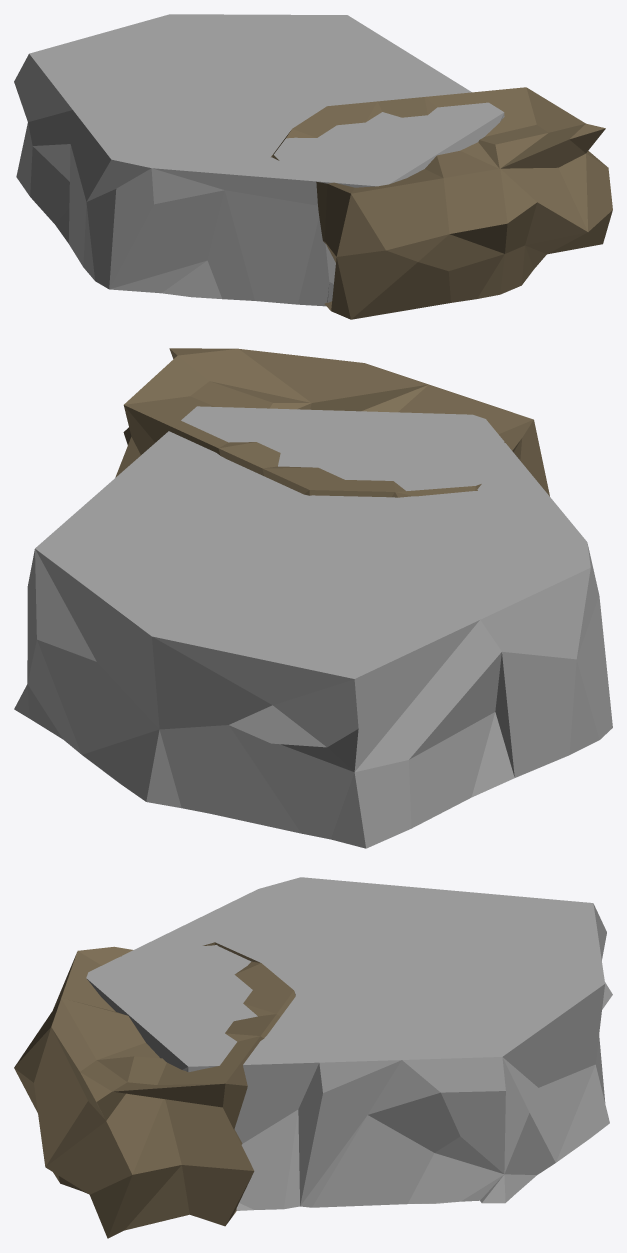
Rendered from SM_Rocks.fbx.
3 renders of one model, top to bottom at view 1: azimuth 30°, elevation 25°; view 2: azimuth 150°, elevation 25°; view 3: azimuth 270°, elevation 25°, orthographic. The views are drawn at different scales.
Parts seen in each view (by area): view 1: SM_RockPlatform, SM_SmallRock; view 2: SM_RockPlatform, SM_SmallRock; view 3: SM_RockPlatform, SM_SmallRock.
Boxes of the visible parts, x1,y1,x2,y2 form: SM_RockPlatform: (14,14,504,306); SM_SmallRock: (271,87,612,319); SM_RockPlatform: (14,406,612,848); SM_SmallRock: (115,348,549,497); SM_RockPlatform: (86,877,612,1210); SM_SmallRock: (14,942,295,1238).
Bounding box in the file's own units: 9.01 × 2.5 × 9.51.
